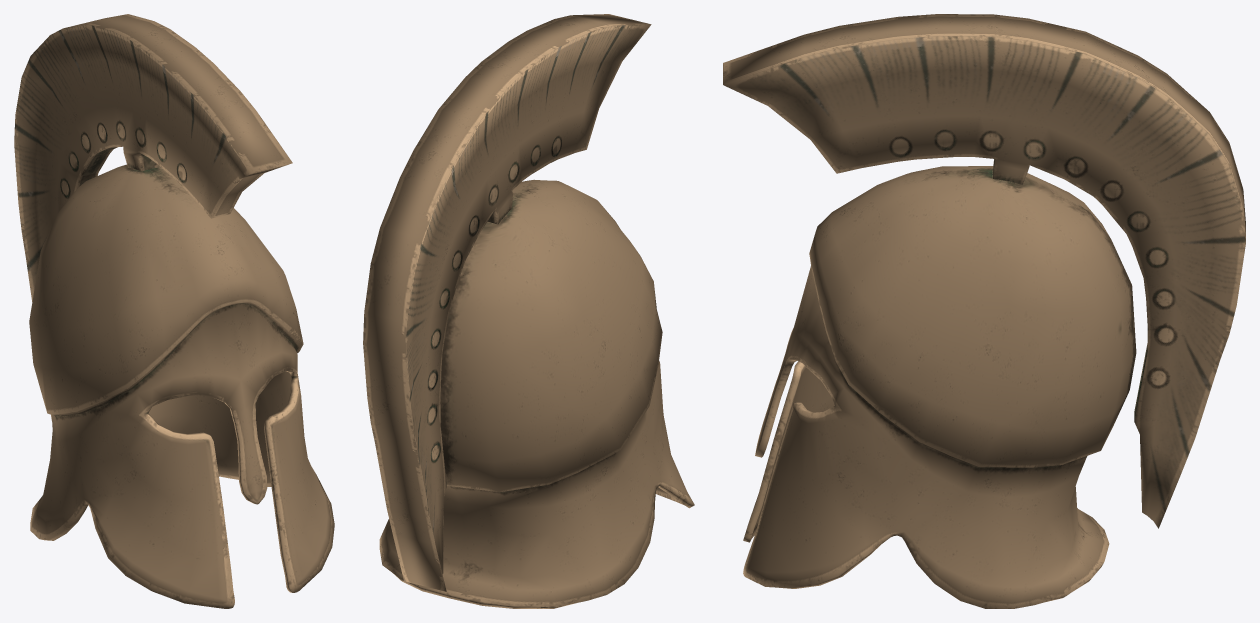
Rendered from sf_corinthian_helmet.glb.
The picture shows the model from 3 angles, left to right: view 1: azimuth 30°, elevation 25°; view 2: azimuth 150°, elevation 25°; view 3: azimuth 270°, elevation 25°; orthographic projection. The views are drawn at different scales.
Parts seen in each view (by area): view 1: helmet_low__0, plume_low__0; view 2: helmet_low__0, plume_low__0; view 3: helmet_low__0, plume_low__0.
Part boxes in pixels (left/top/right/bottom): helmet_low__0: left=29, top=164, right=334, bottom=608; plume_low__0: left=14, top=14, right=292, bottom=421; helmet_low__0: left=379, top=179, right=694, bottom=608; plume_low__0: left=363, top=14, right=651, bottom=591; helmet_low__0: left=743, top=166, right=1136, bottom=608; plume_low__0: left=723, top=14, right=1245, bottom=528.
Size of the model in its own units: 0.2183 by 0.4357 by 0.3871.
Materials: 1 (1 with a texture image).
